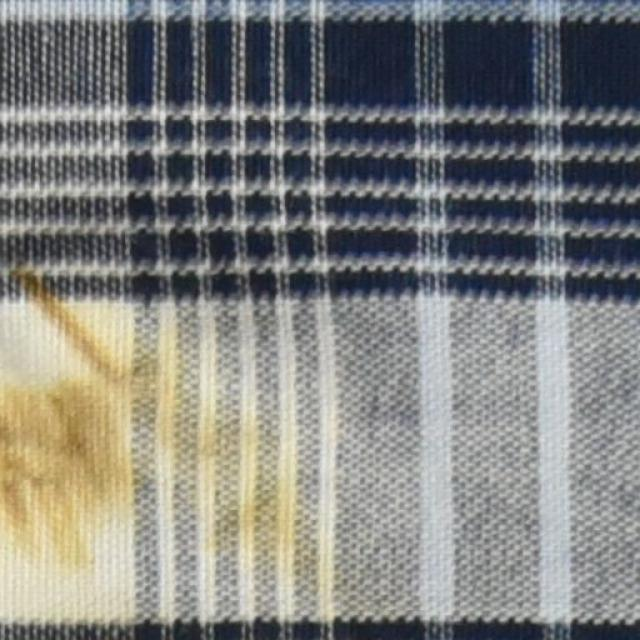Stain: (1, 272, 319, 566)
